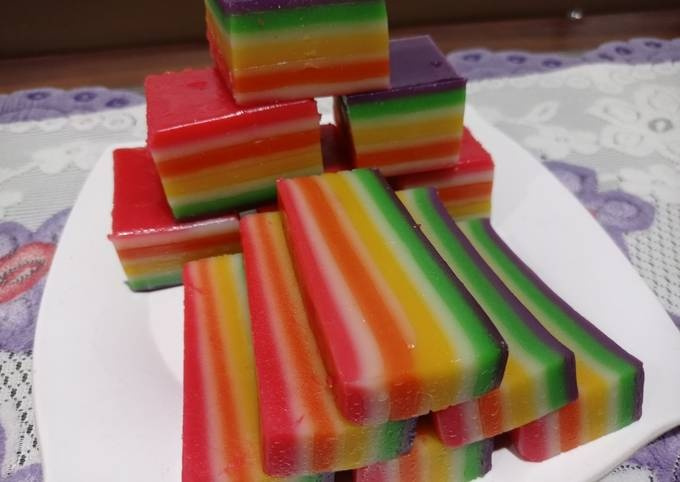kue_lapis_pelangi: (276, 168, 507, 420), (147, 99, 330, 222), (205, 2, 391, 103), (350, 77, 469, 184)
